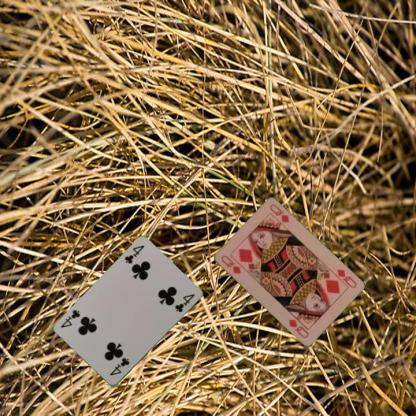4c: (122, 243, 146, 265), (107, 356, 130, 378)
Qd: (329, 266, 358, 289), (218, 253, 241, 275)
